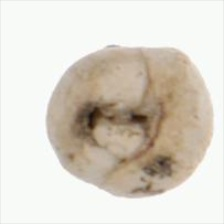L3: (86, 101, 167, 161)
L4: (45, 46, 214, 198)
